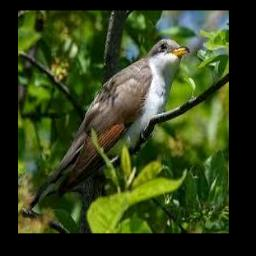Cuckoo: (49, 37, 189, 197)
